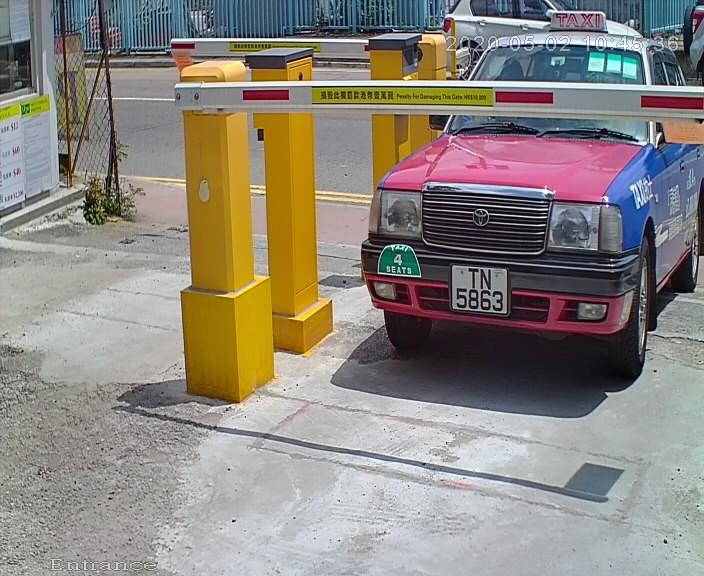Car: (350, 9, 704, 378)
License Plate: (447, 260, 525, 322)
